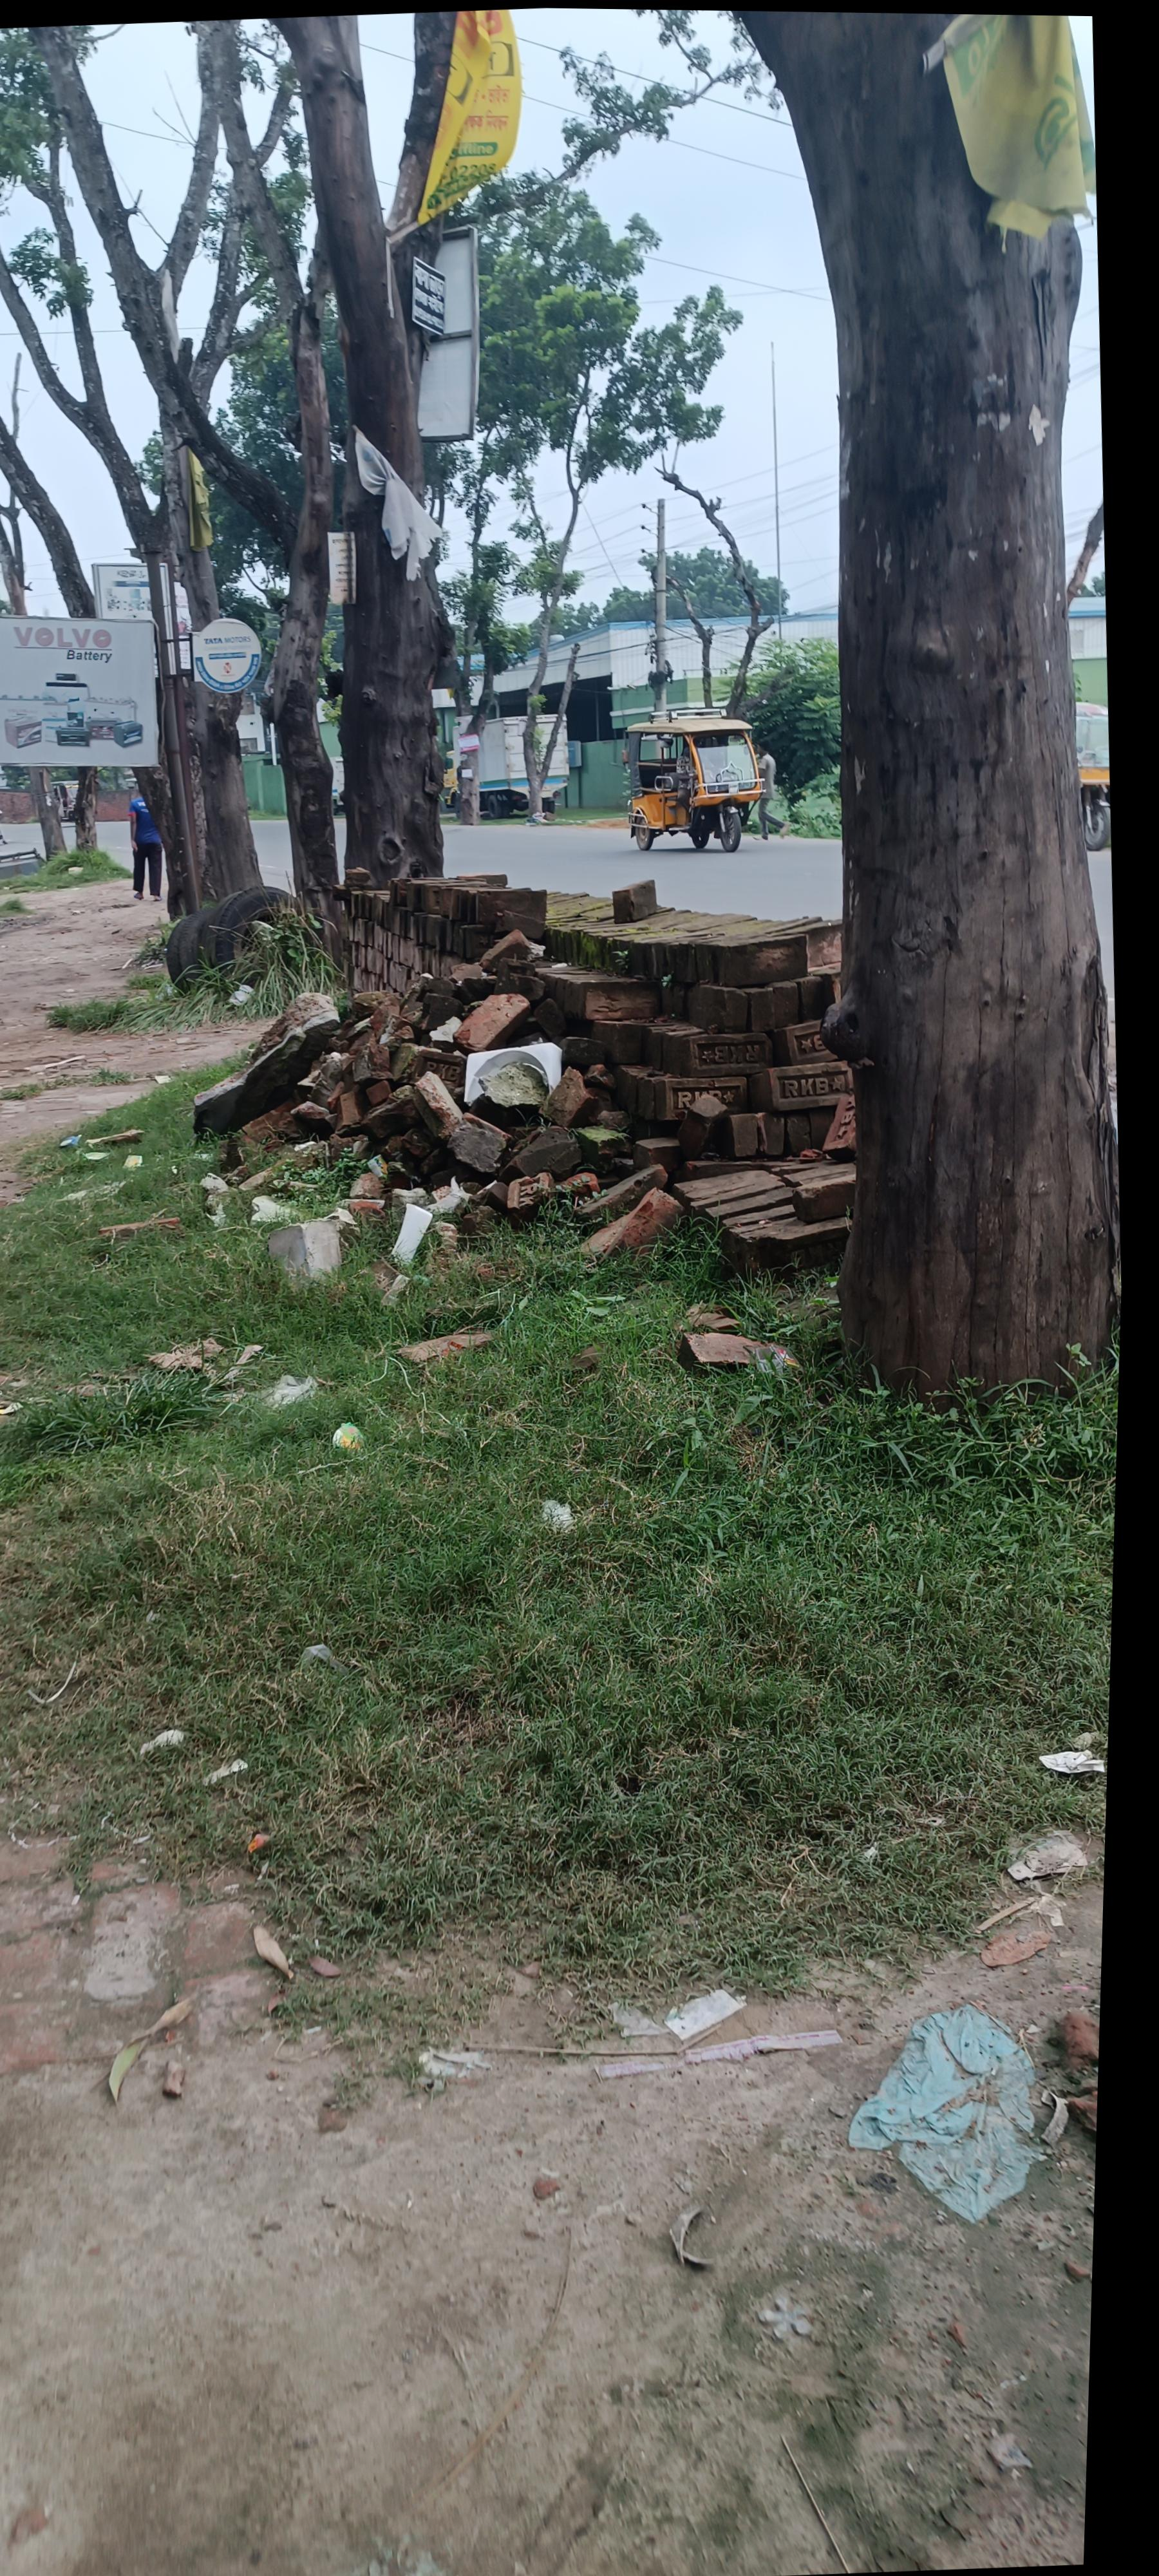Dog: (120, 885, 818, 1342)
Garbage-bin: (66, 815, 108, 931), (683, 767, 731, 866)
